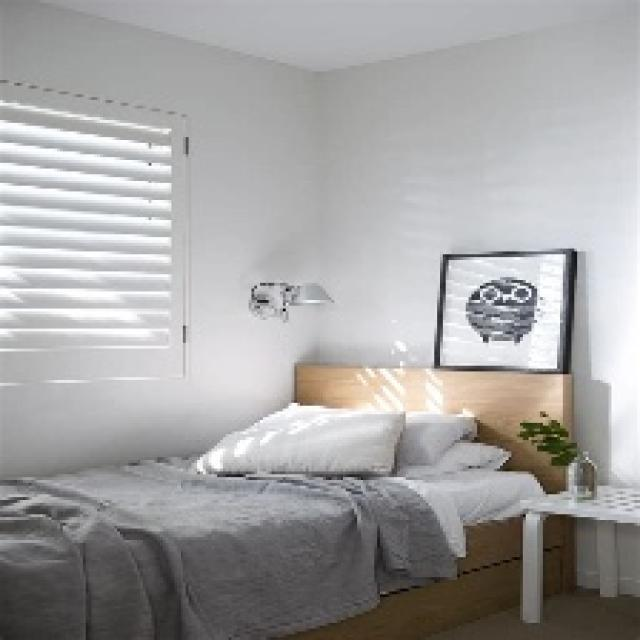Bed: (0, 362, 574, 637)
